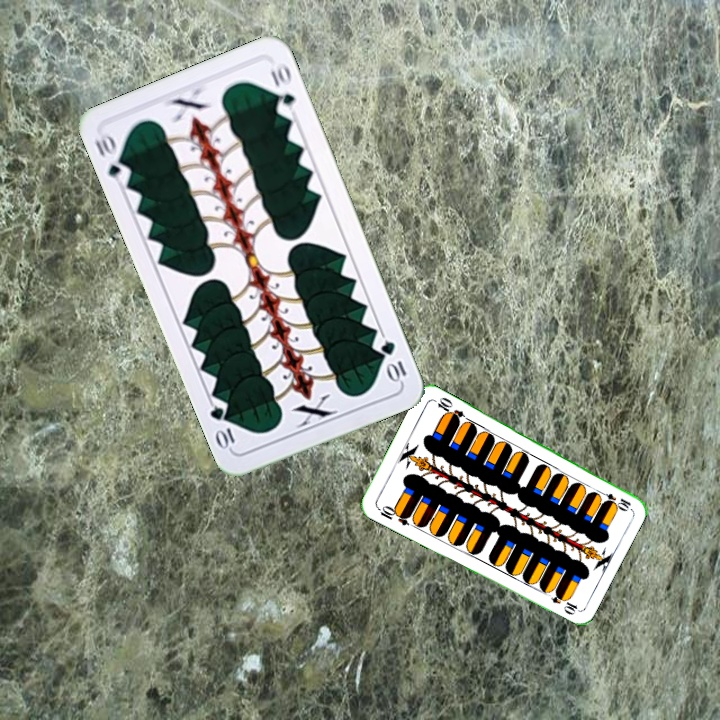E10: (373, 502, 413, 528), (594, 487, 634, 511)
G10: (90, 129, 134, 187), (377, 336, 409, 385)
